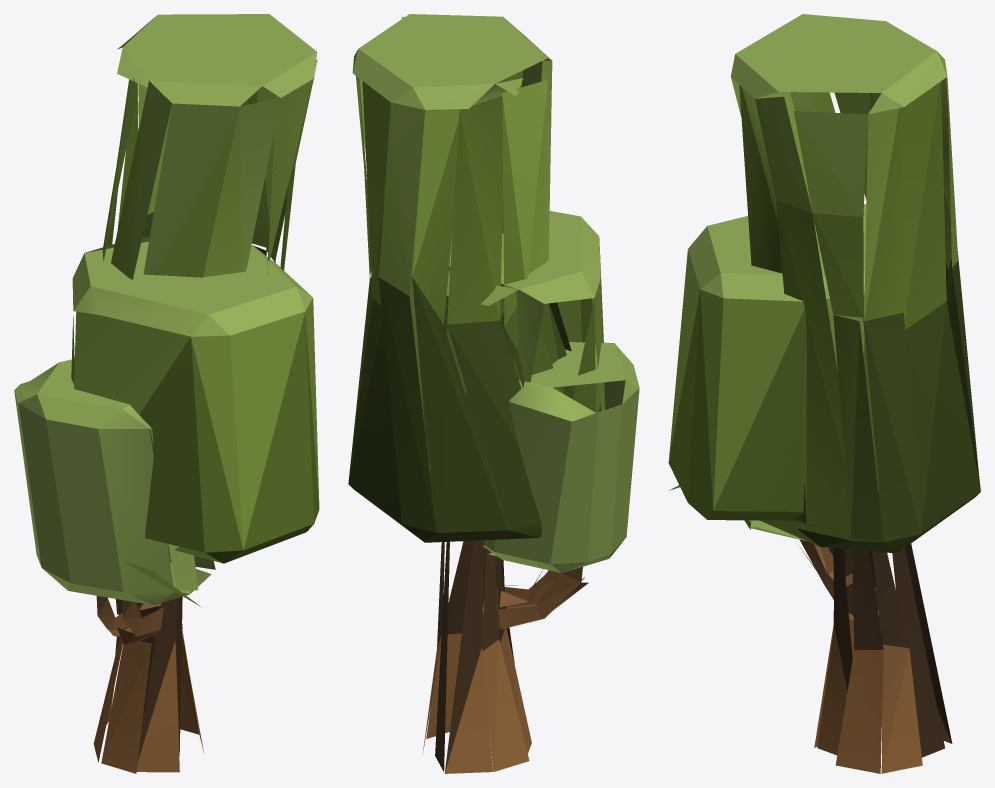
File: angular_tree_stack__spring_low.glb
The picture shows the model from 3 angles, left to right: view 1: azimuth 30°, elevation 25°; view 2: azimuth 150°, elevation 25°; view 3: azimuth 270°, elevation 25°; orthographic projection. The views are drawn at different scales.
Size of the model in its own units: 2.04 by 5.04 by 1.98.
